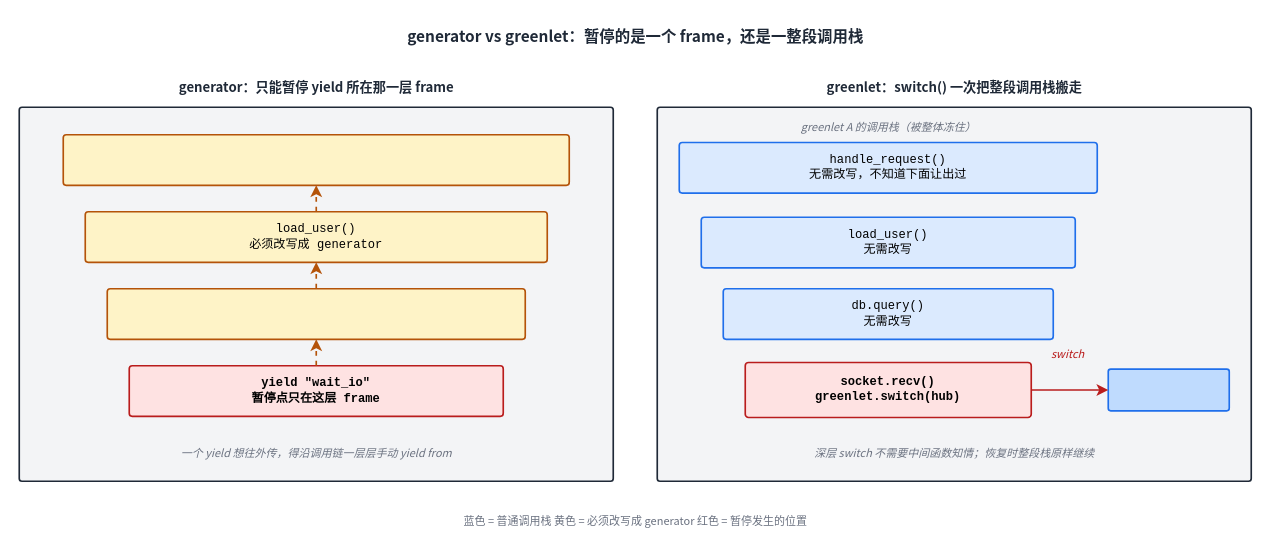
The diagram is 1272 pixels wide and 549 high, and some of its shapes have lost their labels. The shapes that lost their labels are listed below. From the top down, each one's centre as x and y in pixels, then its label:
the point at 316,159: handle_request() 必须改写成 generator
the point at 316,313: db_query() 必须改写成 generator
the point at 1168,389: Hub greenlet
